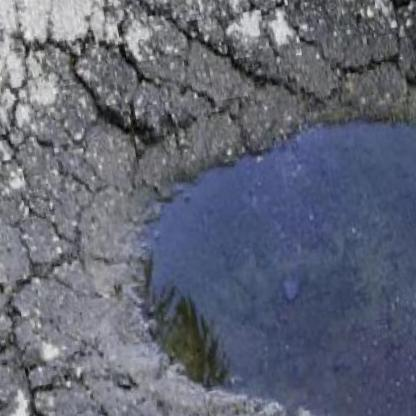pothole: (2, 8, 416, 416)
